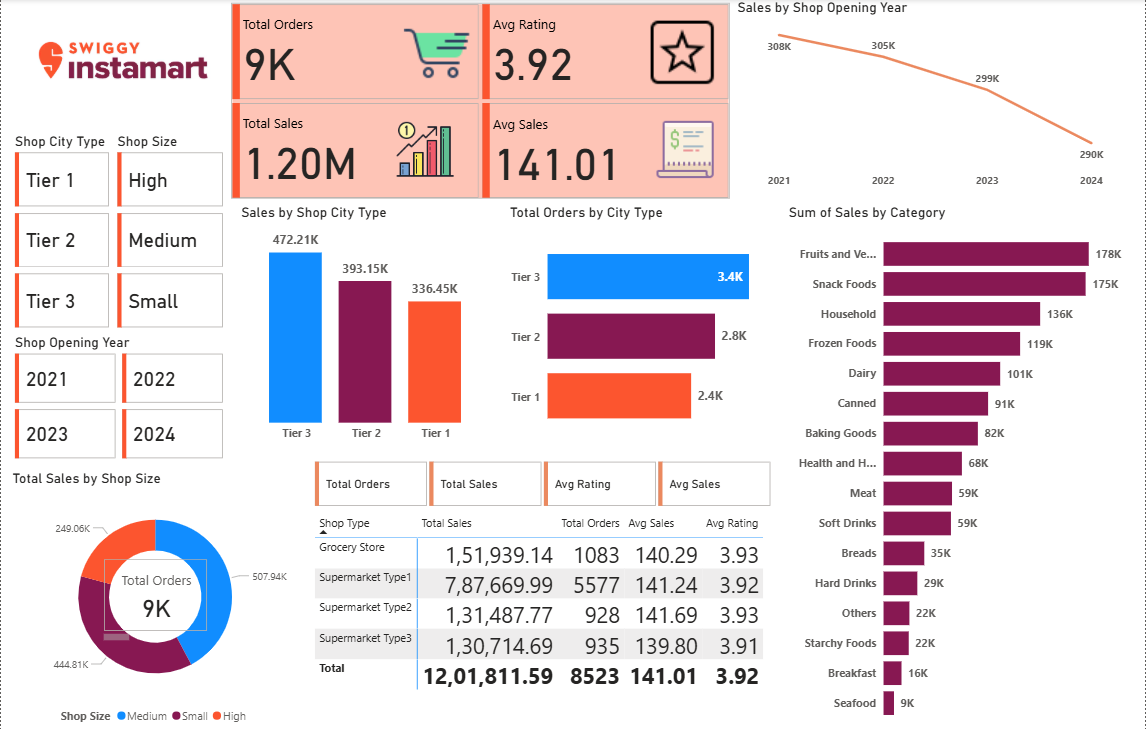

The dashboard page shown, as its layout file describes it:
{"tool":"powerbi","page":{"name":"Page 1","canvas":[1400,900],"ordinal":0},"visuals":[{"type":"image","box":[9.2,0,279.7,149.8],"z":0},{"type":"cardVisual","fields":{"Data":["Grocery Shop.T   otal Orders","Grocery Shop.Avg Rating","Grocery Shop.Total Sales","Grocery Shop.Avg Sales"]},"box":[276.7,0,619.1,250.7],"z":1000},{"type":"lineChart","title":"Sales by Shop Opening Year","fields":{"Category":["Grocery Shop.Shop Opening Year"],"Y":["Sum(Grocery Shop.Sales)"]},"box":[895.7,0,493.7,240],"z":2000},{"type":"columnChart","title":"Sales by Shop City Type","fields":{"Category":["Grocery Shop.Shop City Type"],"Y":["Sum(Grocery Shop.Sales)"]},"box":[288.9,250.7,316.4,299.6],"z":3000},{"type":"barChart","fields":{"Category":["Grocery Shop.Category"],"Y":["Sum(Grocery Shop.Sales)"]},"box":[958.4,250.7,431,645],"z":4000},{"type":"barChart","title":"Total Orders by City Type","fields":{"Category":["Grocery Shop.Shop City Type"],"Y":["Grocery Shop.Total Orders"]},"box":[617.5,250.7,330.2,299.6],"z":5000},{"type":"advancedSlicerVisual","fields":{"Values":["Grocery Shop.Shop Opening Year"]},"box":[12.2,409.6,264.4,159],"z":6000},{"type":"advancedSlicerVisual","fields":{"Values":["Grocery Shop.Shop Size"]},"box":[137.6,163.6,139.1,246.1],"z":7000},{"type":"advancedSlicerVisual","fields":{"Values":["Grocery Shop.Shop City Type"]},"box":[12.2,163.6,125.3,246.1],"z":8000},{"type":"pivotTable","fields":{"Rows":["Grocery Shop.Shop Type"],"Values":["Grocery Shop.Total Sales","Grocery Shop.Total Orders","Grocery Shop.Avg Sales","Grocery Shop.Avg Rating"]},"box":[379.1,625.2,568.6,270.6],"z":9000},{"type":"advancedSlicerVisual","fields":{"Values":["Parameter.Parameter"]},"box":[379.1,561,570.1,64.2],"z":10000},{"type":"donutChart","fields":{"Y":["Grocery Shop.Total Sales"],"Category":["Grocery Shop.Shop Size"]},"box":[9.2,576.3,359.2,319.5],"z":12000},{"type":"cardVisual","fields":{"Data":["Grocery Shop.Total Orders","Grocery Shop.Total Sales","Grocery Shop.Avg Rating","Grocery Shop.Avg Sales"]},"box":[120.8,680.2,136,111.6],"z":14000}]}

Visuals, with their boxes in screenshot pixels (x1, y1, x2, y2), scaled from the page's 1400x900 canvas onto the 1146x729 screenshot:
image: bbox=(8, 0, 236, 121)
cardVisual - Grocery Shop.T   otal Orders x Grocery Shop.Avg Rating: bbox=(226, 0, 733, 203)
"Sales by Shop Opening Year" lineChart: bbox=(733, 0, 1137, 194)
"Sales by Shop City Type" columnChart: bbox=(236, 203, 495, 446)
barChart - Grocery Shop.Category x Sum(Grocery Shop.Sales): bbox=(785, 203, 1137, 726)
"Total Orders by City Type" barChart: bbox=(505, 203, 776, 446)
advancedSlicerVisual - Grocery Shop.Shop Opening Year: bbox=(10, 332, 226, 461)
advancedSlicerVisual - Grocery Shop.Shop Size: bbox=(113, 133, 226, 332)
advancedSlicerVisual - Grocery Shop.Shop City Type: bbox=(10, 133, 113, 332)
pivotTable - Grocery Shop.Shop Type x Grocery Shop.Total Sales: bbox=(310, 506, 776, 726)
advancedSlicerVisual - Parameter.Parameter: bbox=(310, 454, 777, 506)
donutChart - Grocery Shop.Total Sales x Grocery Shop.Shop Size: bbox=(8, 467, 302, 726)
cardVisual - Grocery Shop.Total Orders x Grocery Shop.Total Sales: bbox=(99, 551, 210, 641)
